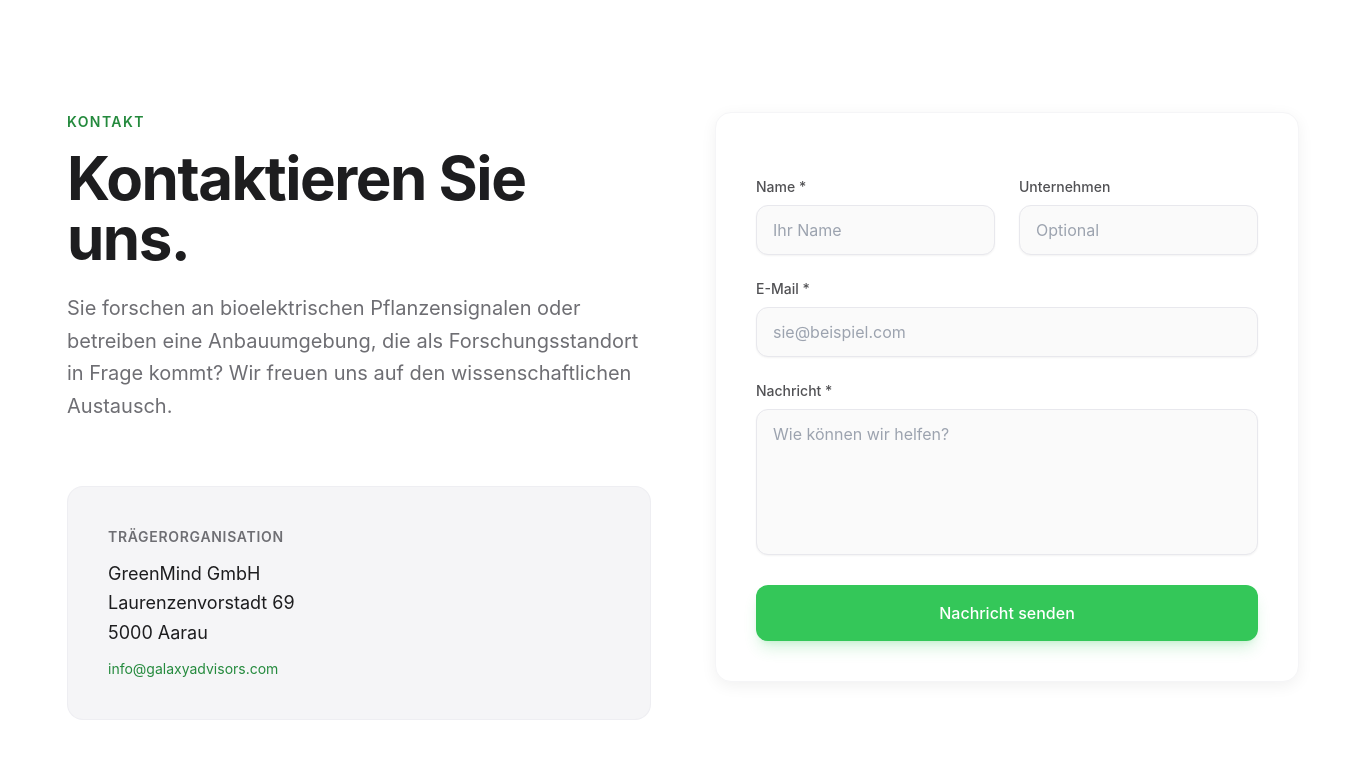
Test: ContactPage › submits the form successfully and shows success message
In the field with placeholder "Ihr Name": [876, 230] box [756, 205, 995, 255], type "Max Muster"
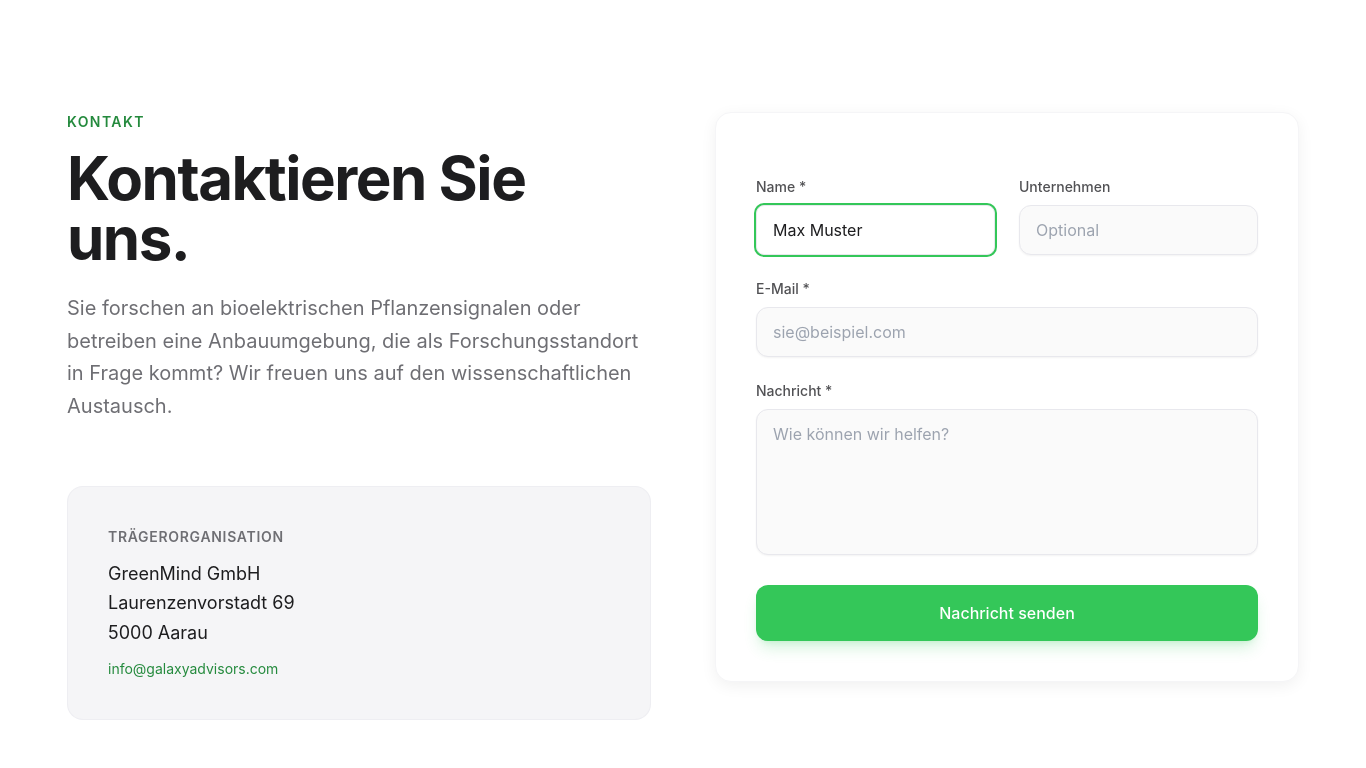
In the field with placeholder "sie@beispiel.com": [1007, 332] box [756, 307, 1258, 357], type "max@example.com"
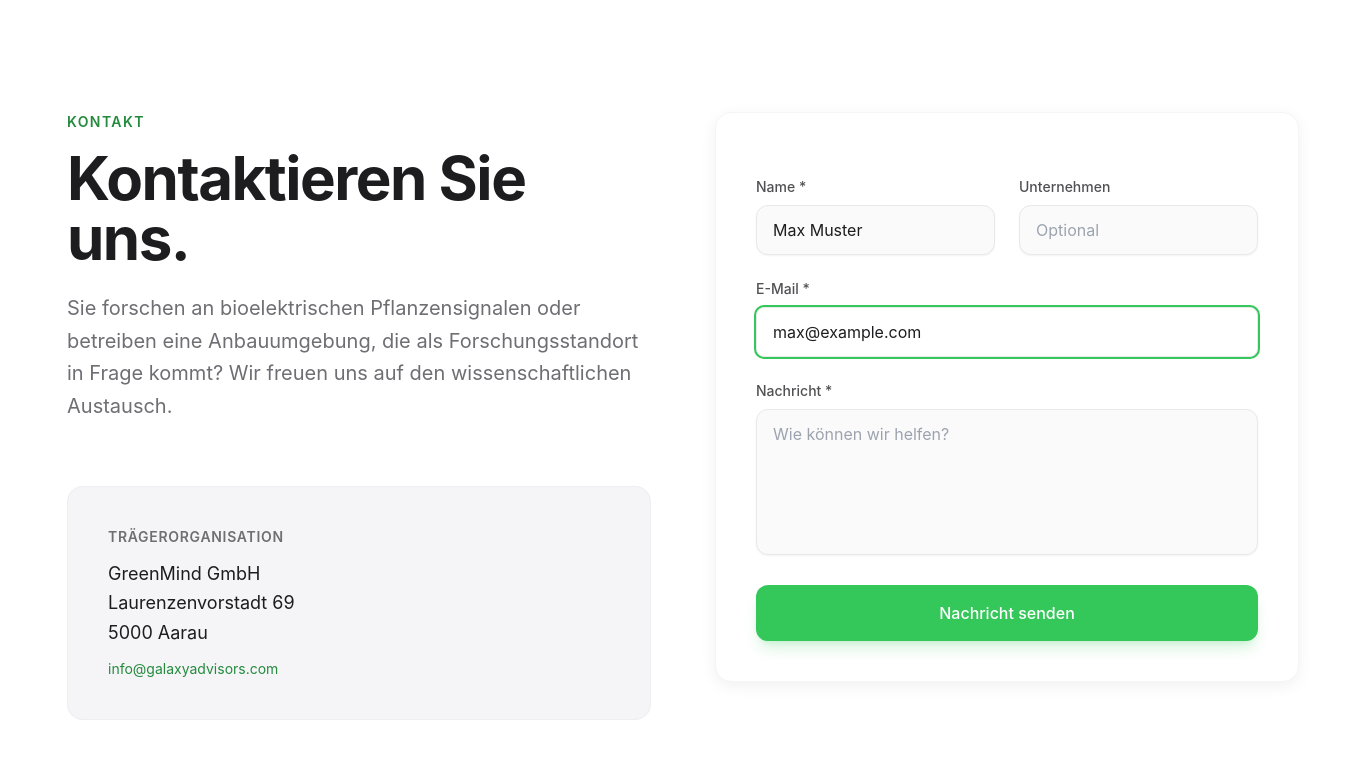
In the text box with placeholder "Wie können wir helfen?": [1007, 482] box [756, 409, 1258, 555], type "Test message"
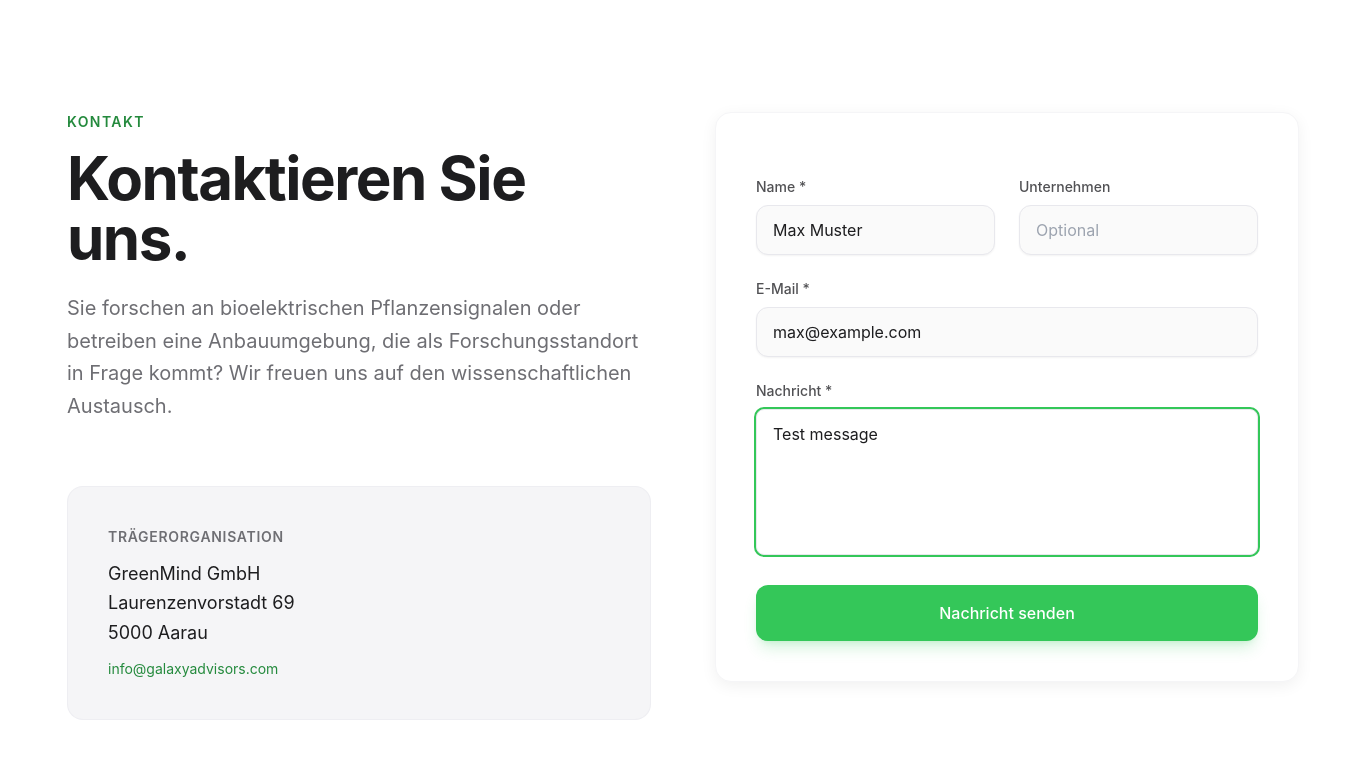
Click the button "Nachricht senden": [1007, 613] box [756, 585, 1258, 641]
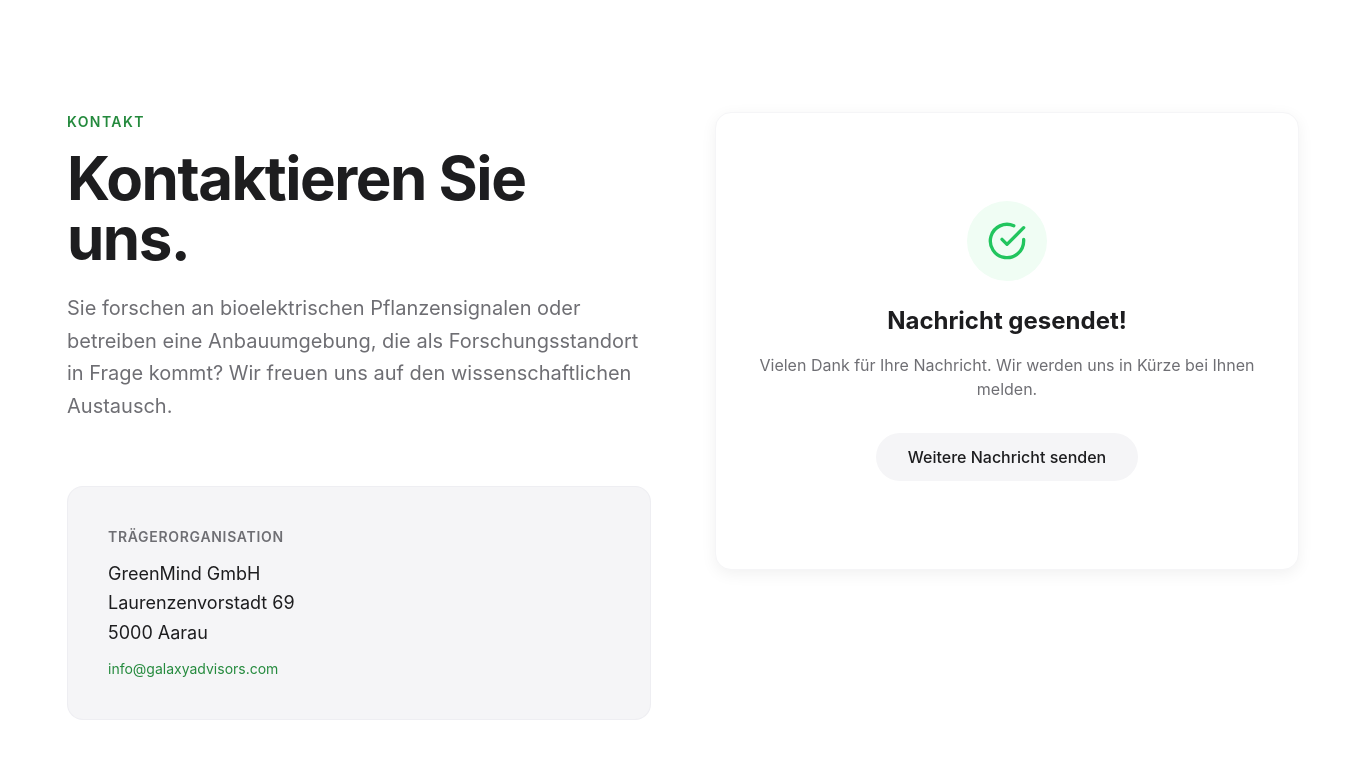
expect the heading "Nachricht gesendet!" is shown: met, box [887, 306, 1127, 335]
